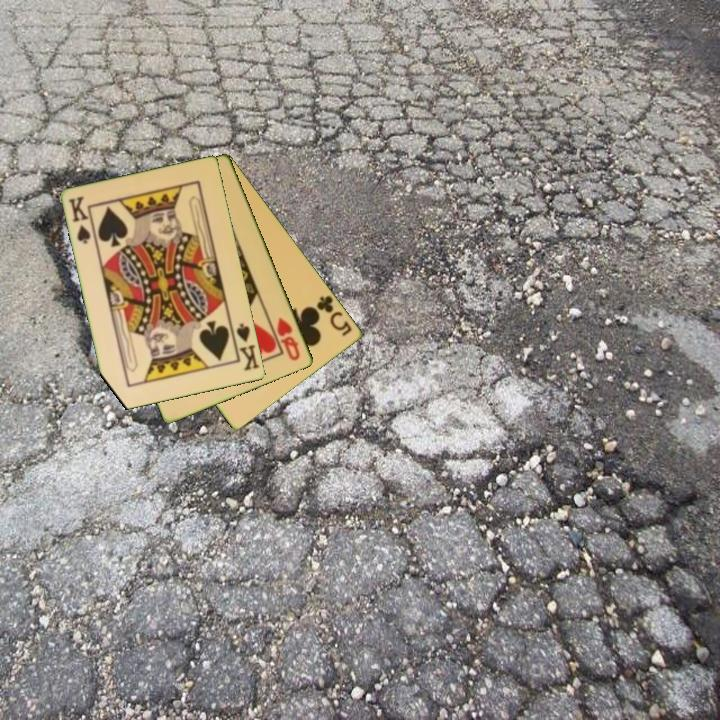5c: (312, 292, 355, 339)
Ks: (233, 320, 262, 374), (66, 193, 94, 247)
Qh: (274, 314, 303, 364)
